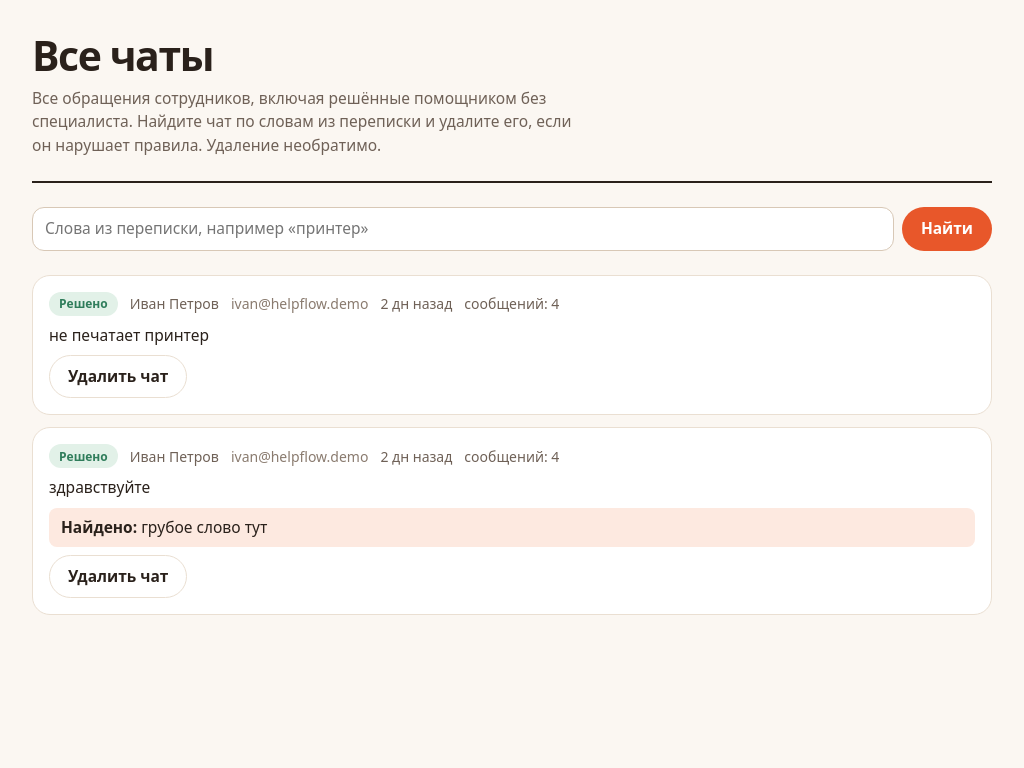
Scenario: AdminChats › finds a chat by its words and deletes it after confirmation
expect the text "не печатает принтер" is shown: met, box top-left (49, 324), bottom-right (209, 346)
Type "грубое" into the search field labelled "Слова из переписки" at (463, 229), box top-left (32, 207), bottom-right (894, 251)
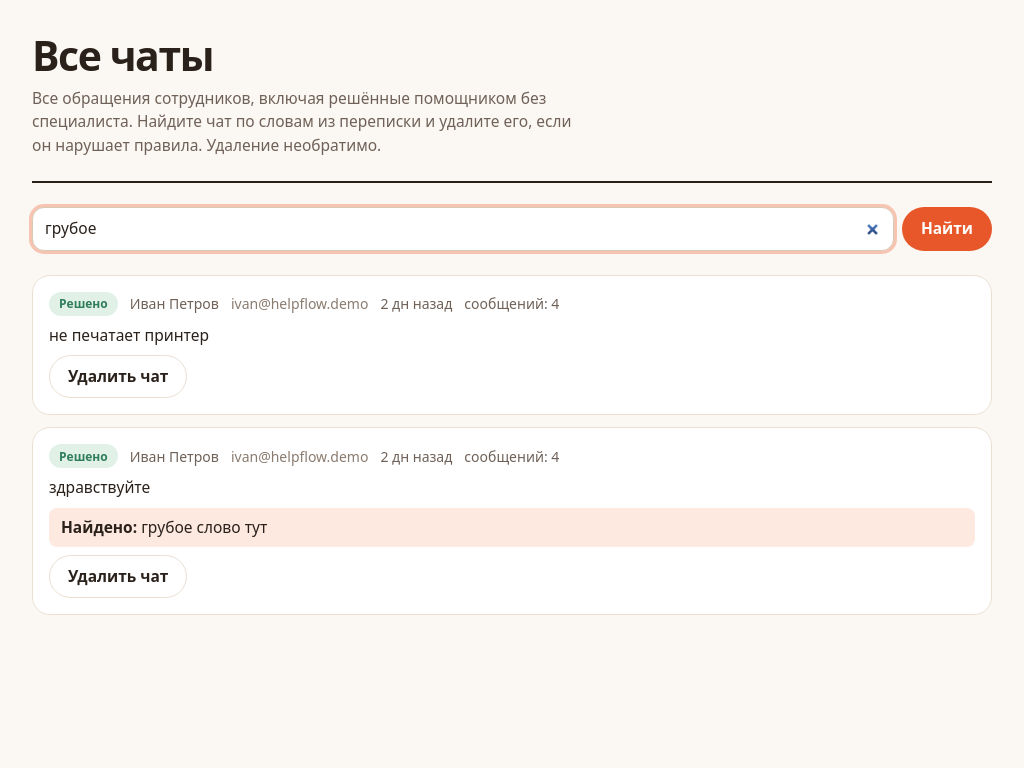
Click the button "Найти" at (947, 229), box top-left (902, 207), bottom-right (992, 251)
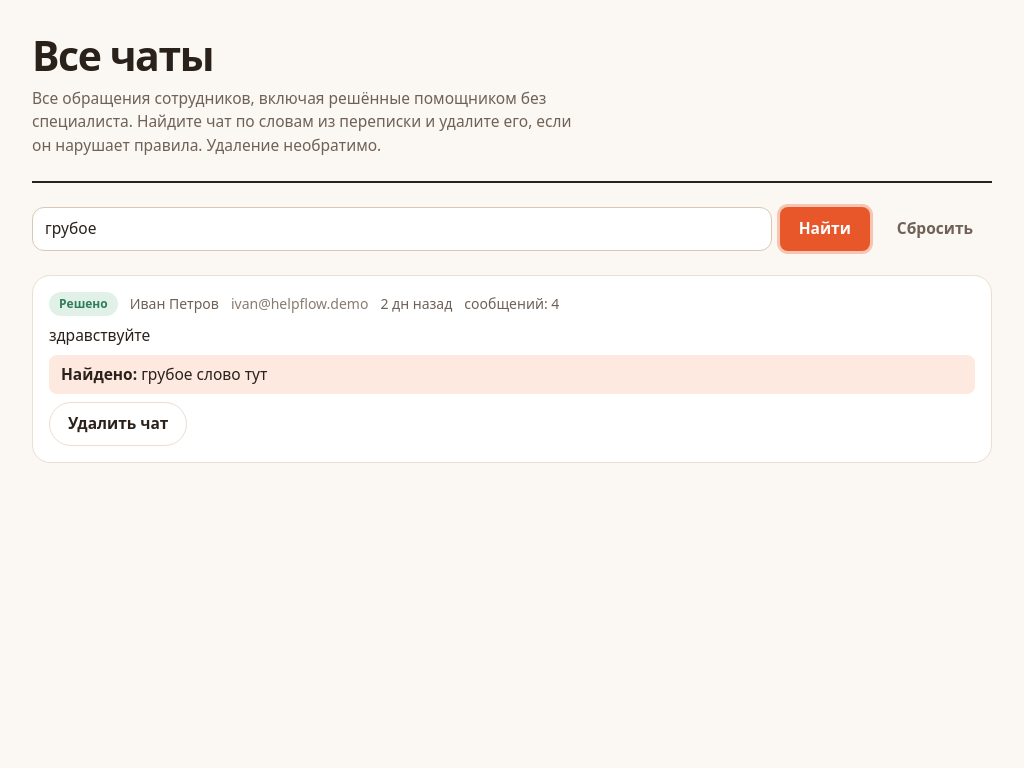
expect the text "Найдено: грубое слово тут" is shown: met, box top-left (49, 355), bottom-right (975, 394)
expect the number of list items is 1: met, box top-left (32, 275), bottom-right (992, 463)
Click the button "Удалить чат" at (118, 424), box top-left (49, 402), bottom-right (187, 446)
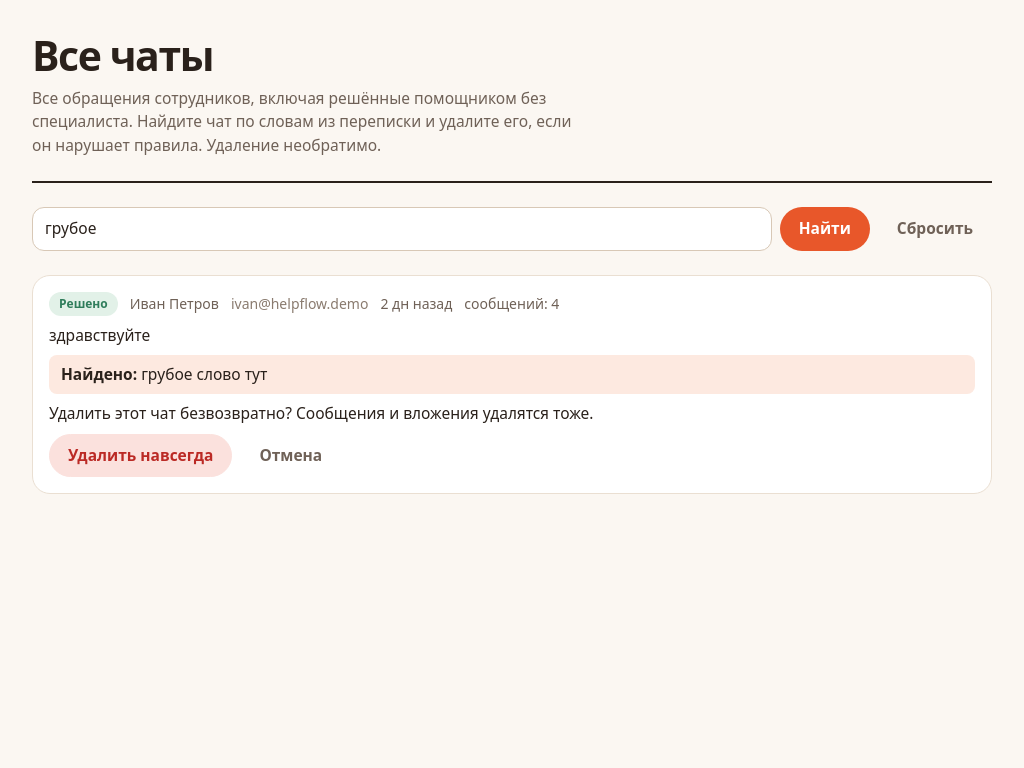
Click the button "Удалить навсегда" at (141, 455), box top-left (49, 434), bottom-right (232, 477)
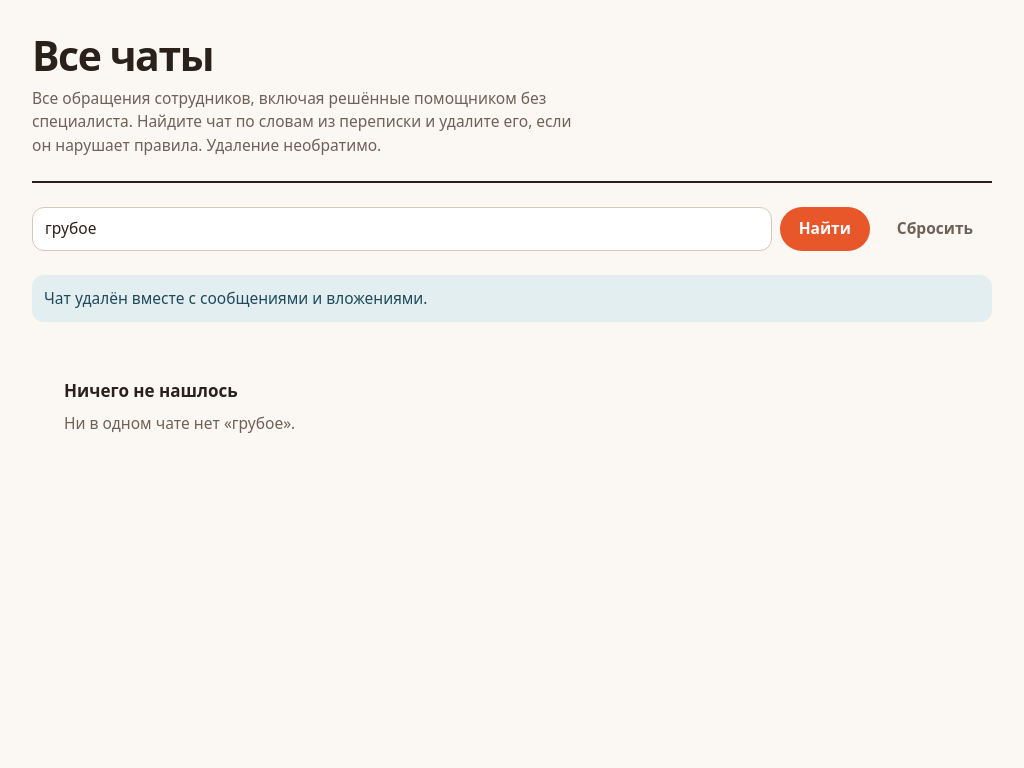
expect the message shows "Чат удалён": met, box top-left (44, 287), bottom-right (428, 309)
expect the text "грубое слово тут" is gone: met
